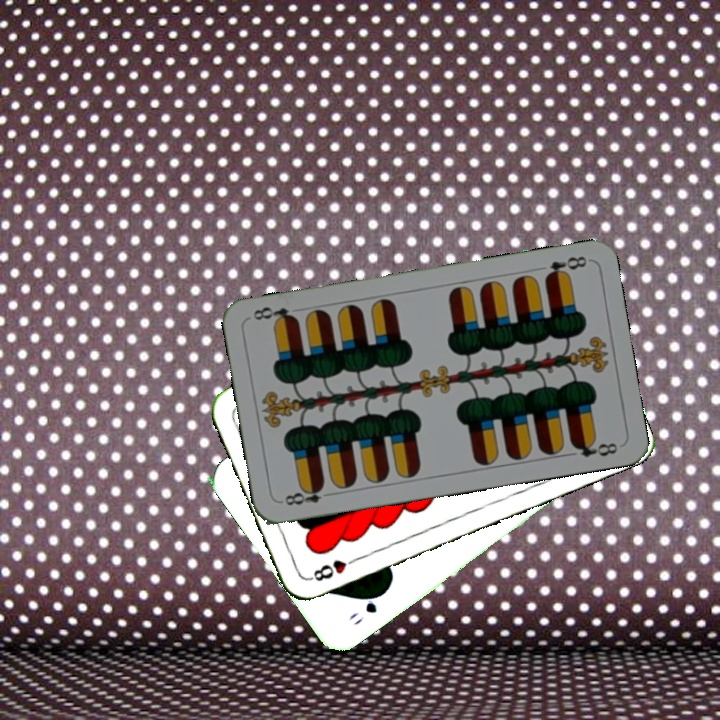E8: (280, 481, 336, 508), (540, 252, 590, 282)
GO: (345, 587, 389, 628)
H8: (305, 553, 362, 584)
